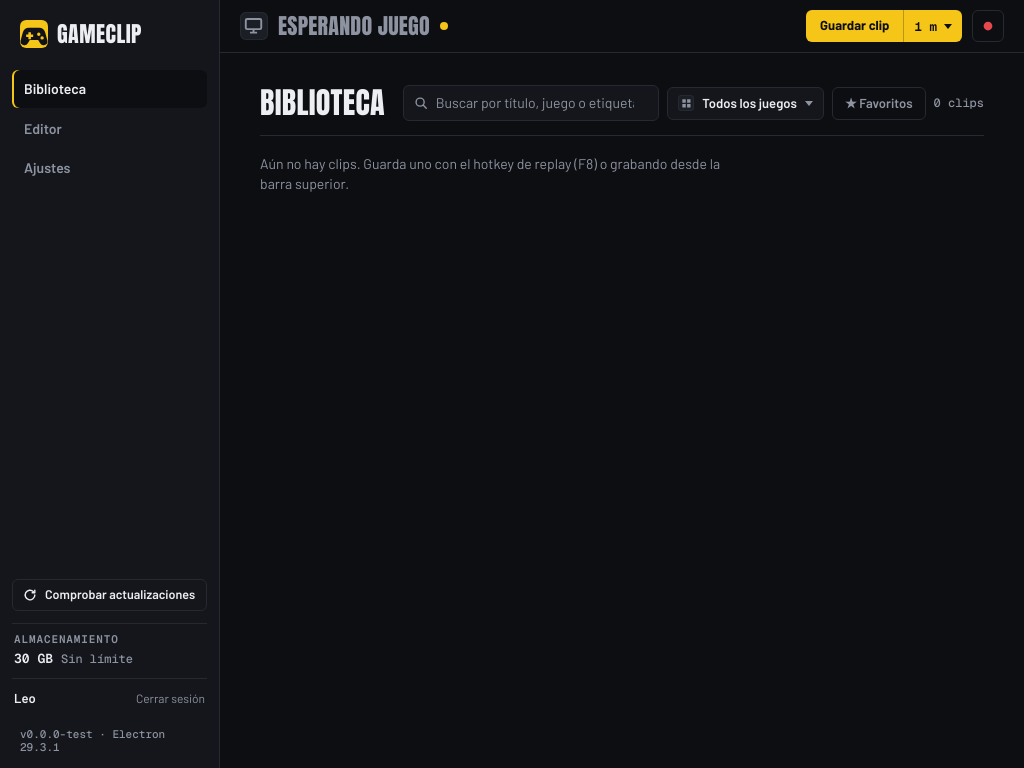
Test: Ajustes — Grabación › cambia el modo de grabación con los radios y lo guarda
Click the link "Ajustes" at (47, 168), box top-left (24, 159), bottom-right (70, 176)
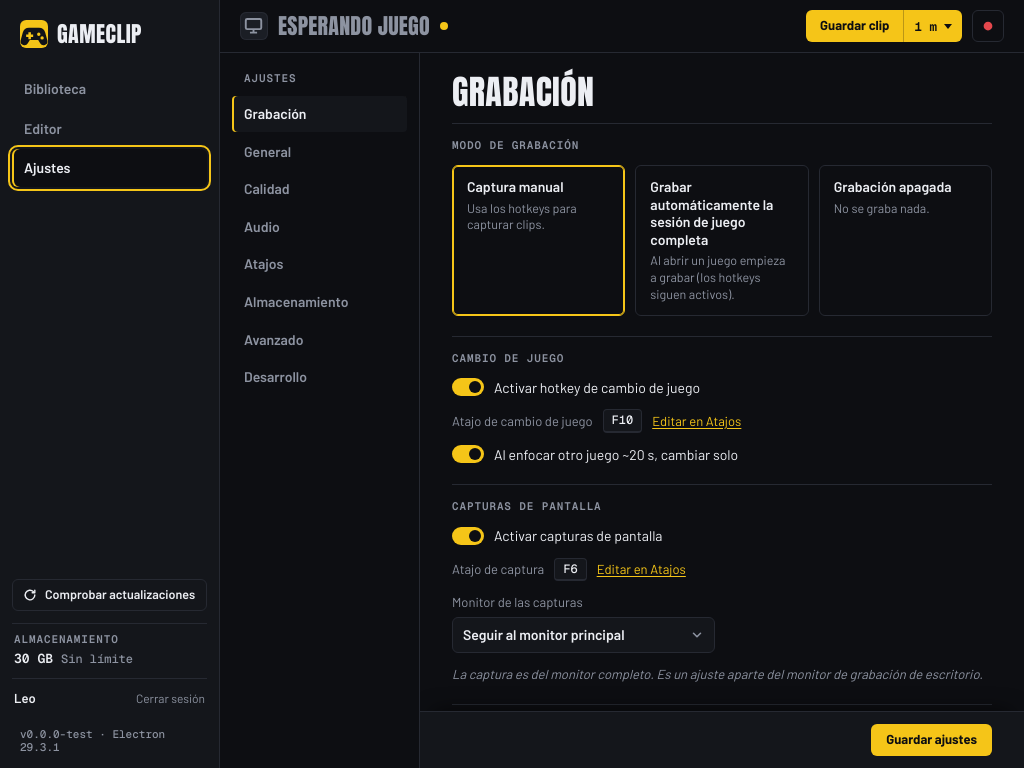
Click the radio button labelled "Grabar automáticamente la sesión de juego completa" at (722, 240), box top-left (635, 165), bottom-right (809, 316)
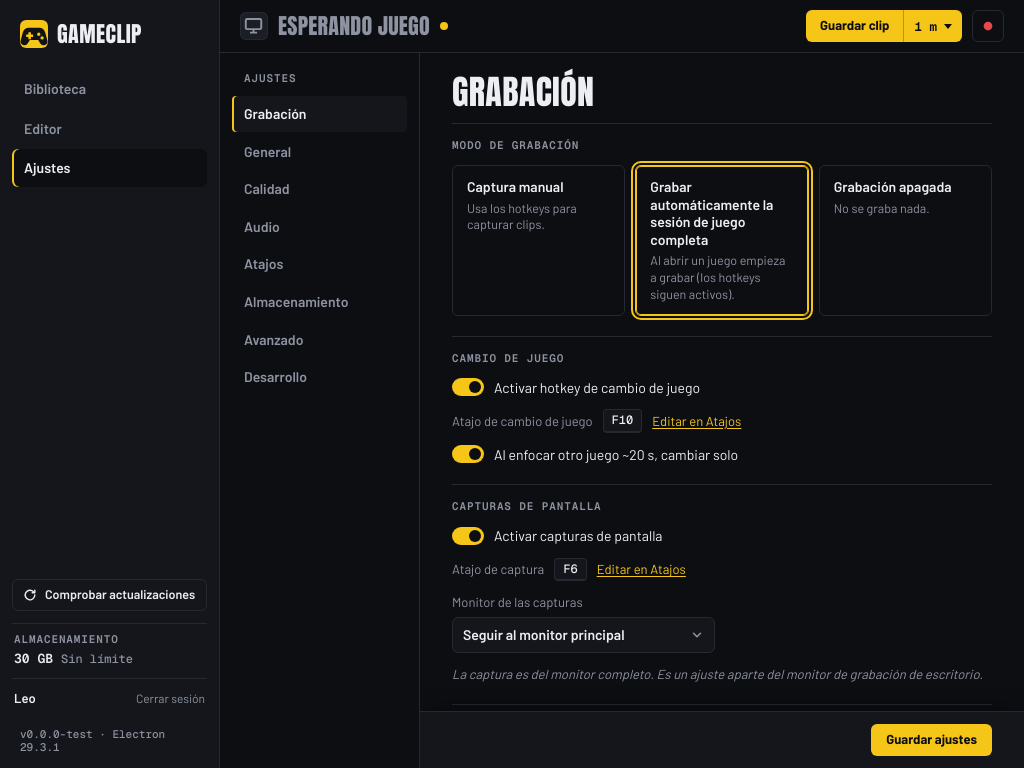
Click the button "Guardar ajustes" at (932, 740), box top-left (871, 724), bottom-right (992, 756)
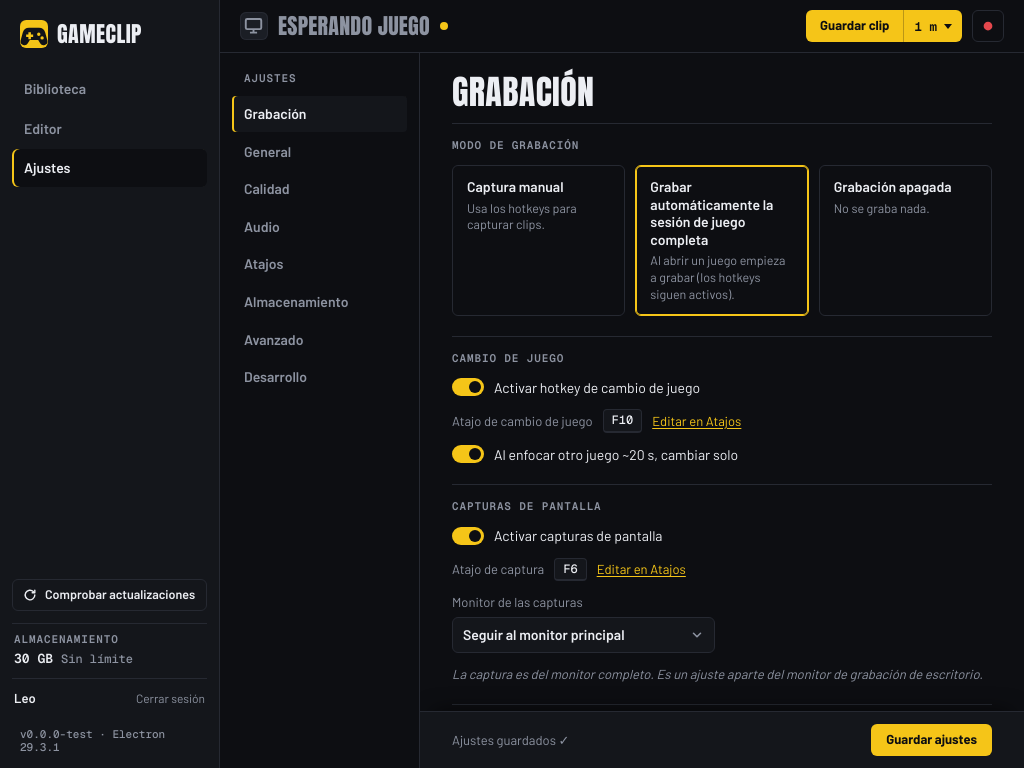
Result: the text "Ajustes guardados ✓" is shown at top-left (452, 732), bottom-right (569, 748)
